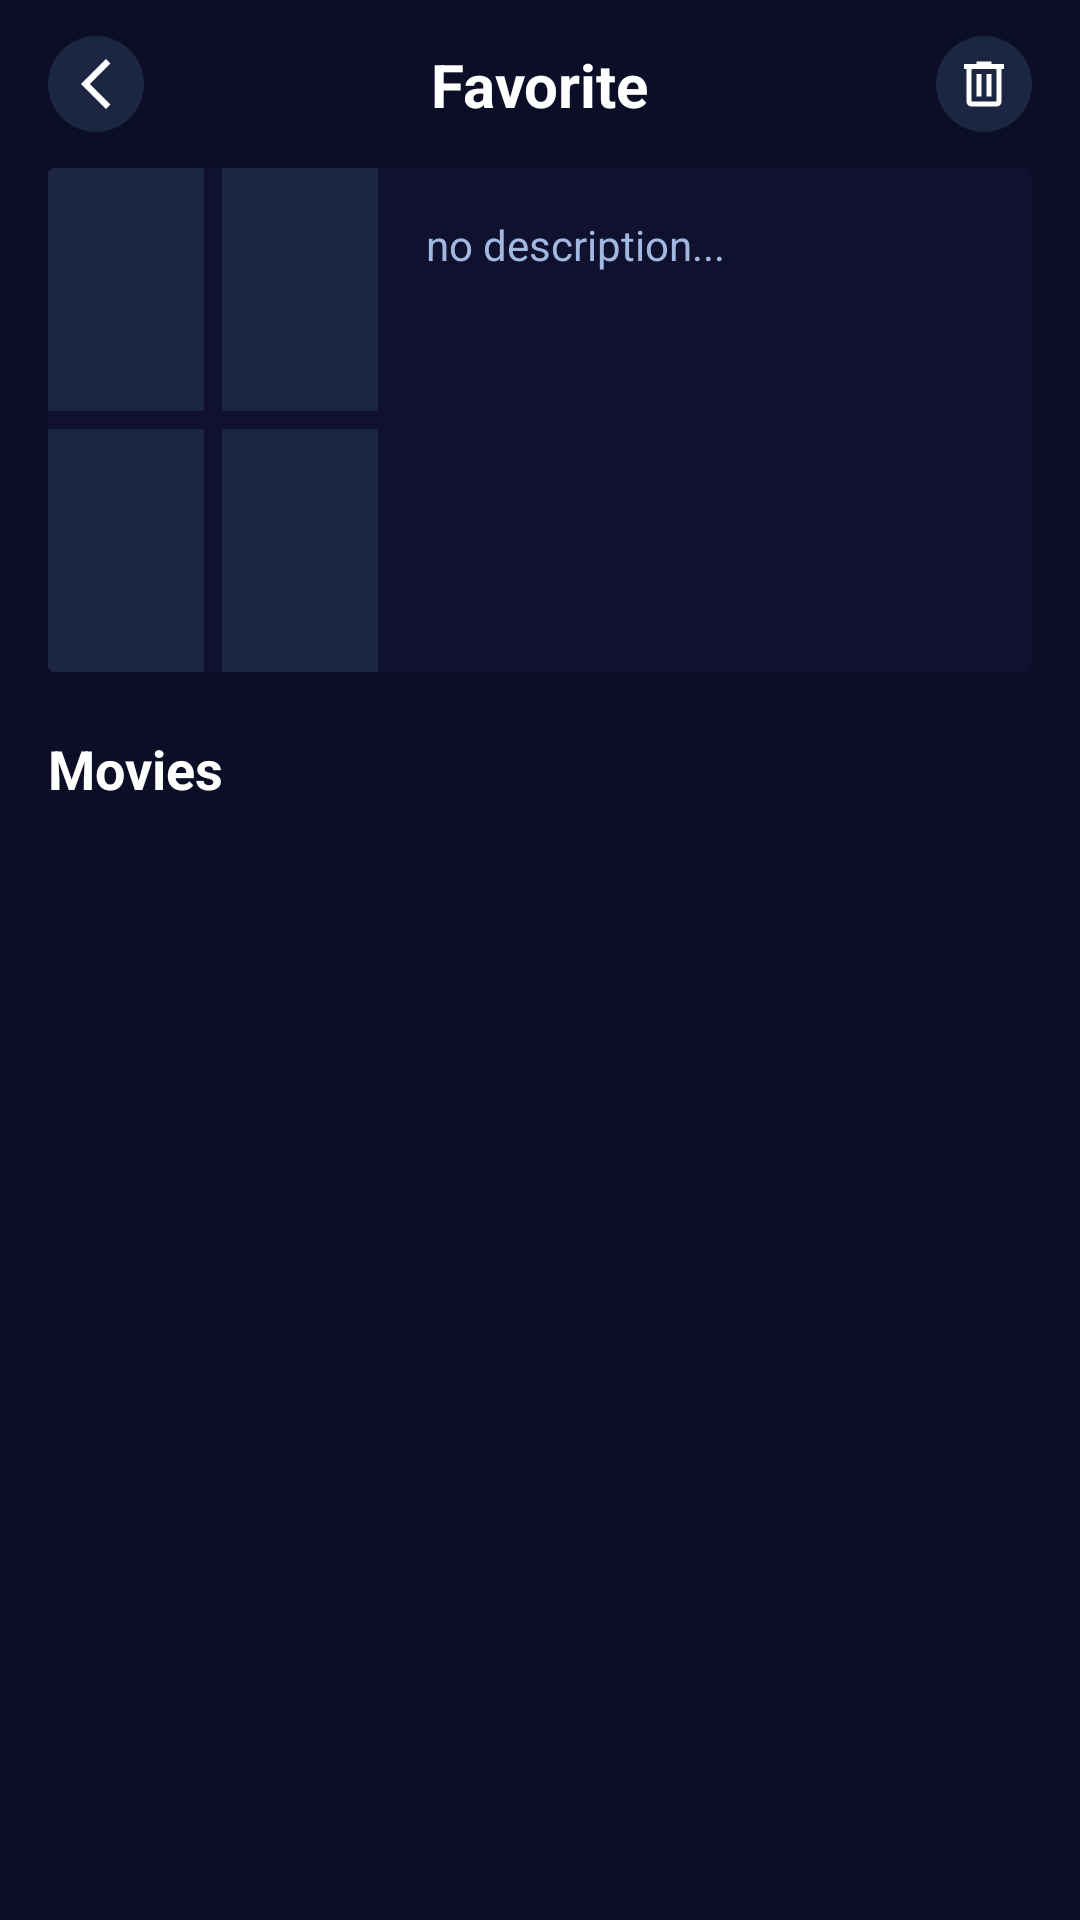

Icon click points for this 1080w x 1920h phone screenshot, format (x=x, y=y):
arrow back: (x=96, y=84)
delete: (x=984, y=84)
